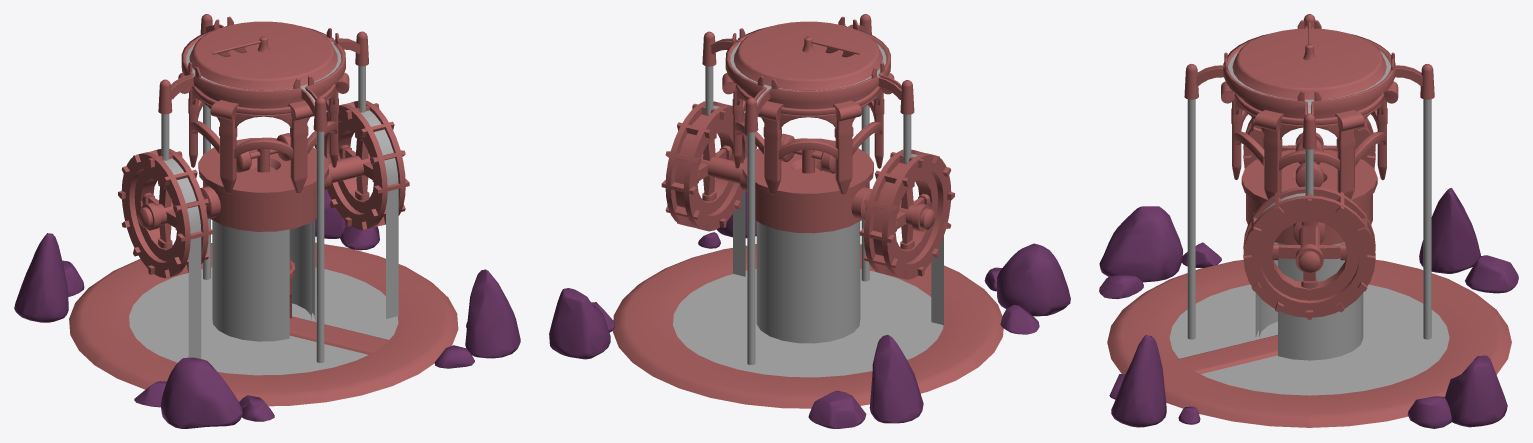
The model's file is SM_StoneBuilding_Resource_Mill(3).fbx.
The picture shows the model from 3 angles, left to right: view 1: azimuth 30°, elevation 25°; view 2: azimuth 150°, elevation 25°; view 3: azimuth 270°, elevation 25°; orthographic projection. The views are drawn at different scales.
Parts seen in each view (by area): view 1: Mill_18_Low; view 2: Mill_18_Low; view 3: Mill_18_Low.
Part boxes in pixels (left/top/right/bottom): Mill_18_Low: left=14, top=14, right=520, bottom=428; Mill_18_Low: left=549, top=14, right=1070, bottom=428; Mill_18_Low: left=1099, top=14, right=1518, bottom=428.
Bounding box in the file's own units: 730 × 570 × 724.
